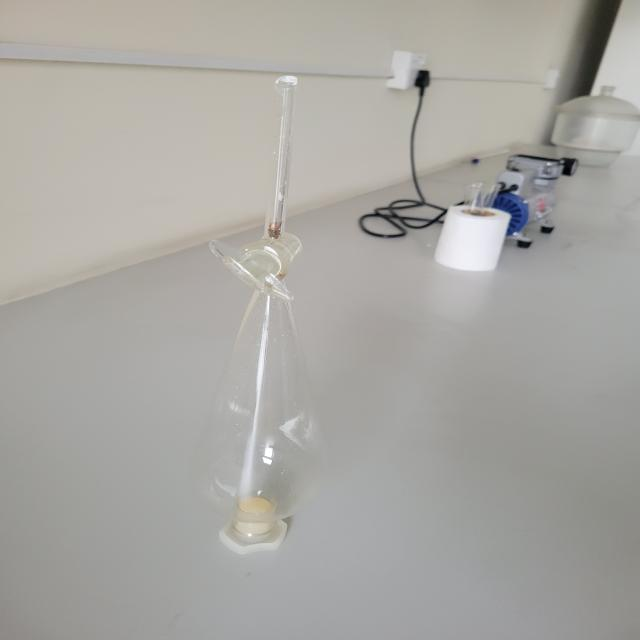Separating_Funnel: (191, 40, 357, 570)
